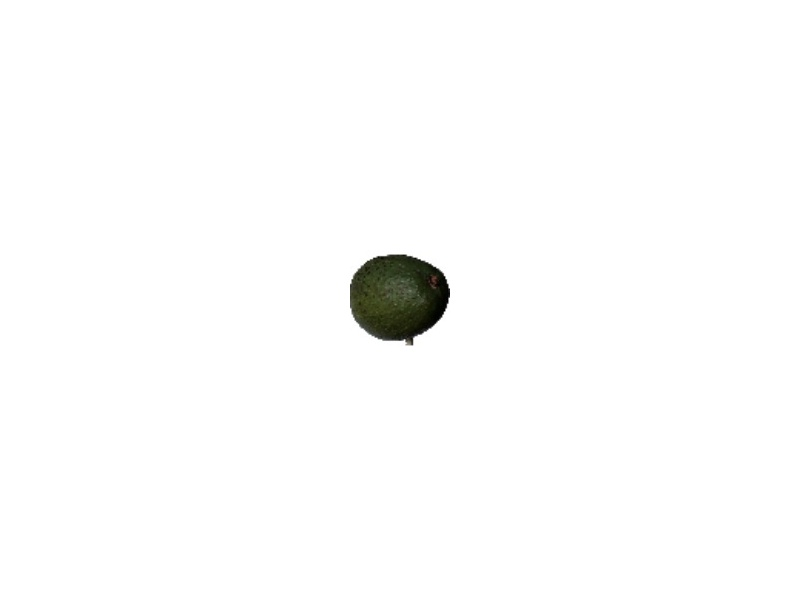abacate: (349, 253, 450, 340)
